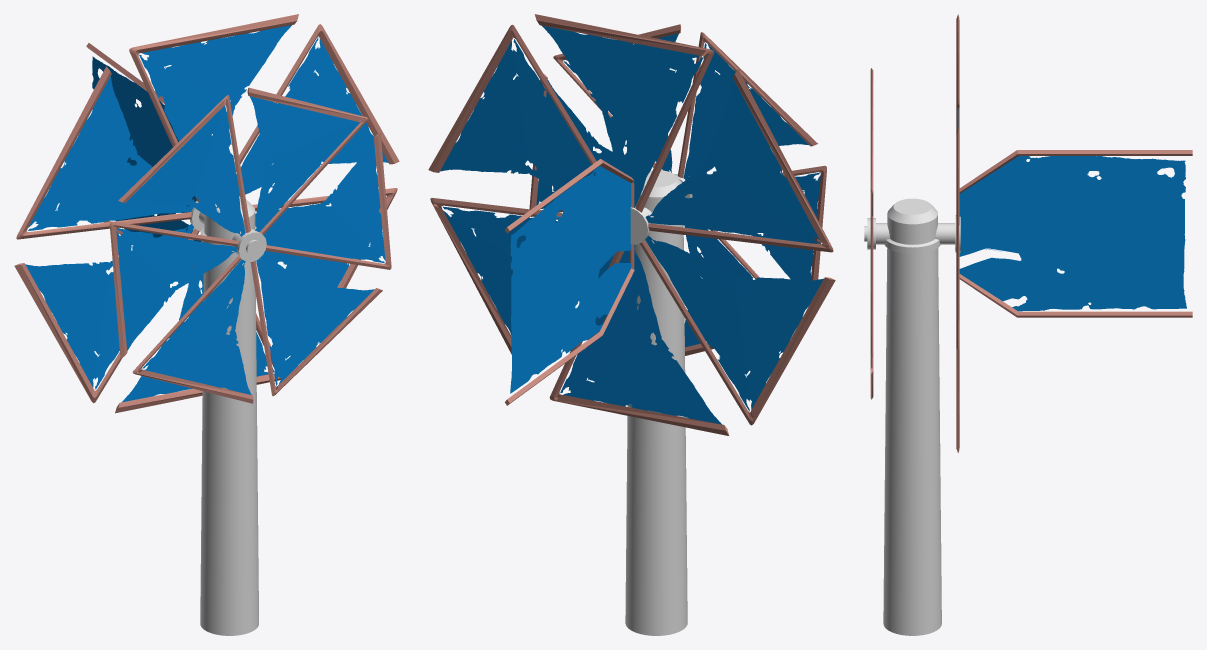
File: SmallWindmillA.fbx
3 views of the same model, side by side, from view 1: azimuth 30°, elevation 25°; view 2: azimuth 150°, elevation 25°; view 3: azimuth 270°, elevation 25° (orthographic). The views are drawn at different scales.
Visible parts, largest first — view 1: Plane.017, Plane.018, Cylinder.010, Plane.015, Cylinder.011; view 2: Plane.018, Plane.015, Cylinder.010, Plane.017, Cylinder.011; view 3: Plane.015, Cylinder.010, Plane.018, Plane.017, Cylinder.011.
Boxes of the visible parts, x1,y1,x2,y2 form: Plane.017: (109,87,391,403); Plane.018: (14,14,399,413); Cylinder.010: (200,196,258,635); Plane.015: (86,43,201,267); Cylinder.011: (189,201,266,261); Plane.018: (428,14,835,435); Plane.015: (505,159,634,405); Cylinder.010: (625,170,687,635); Plane.017: (529,24,826,355); Cylinder.011: (630,174,692,244); Plane.015: (959,150,1192,317); Cylinder.010: (883,198,941,635); Plane.018: (956,14,959,452); Plane.017: (870,68,873,399); Cylinder.011: (864,215,960,252).
Bounding box in the file's own units: 835 × 1195 × 621.
